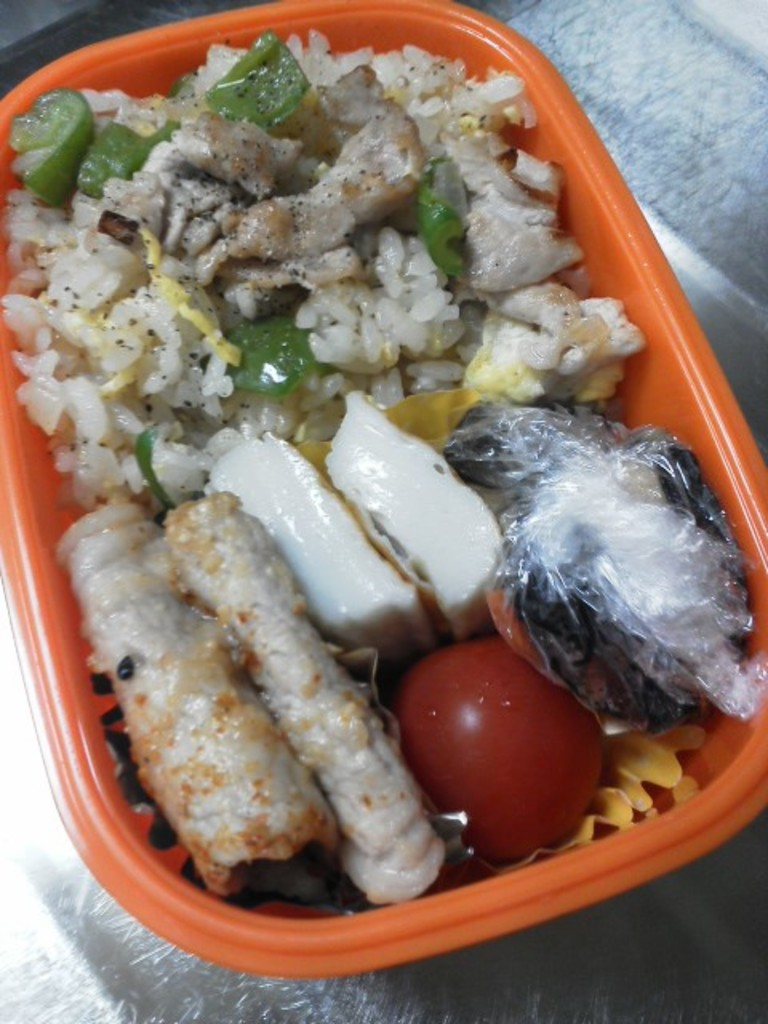Tomato: (394, 635, 602, 862)
